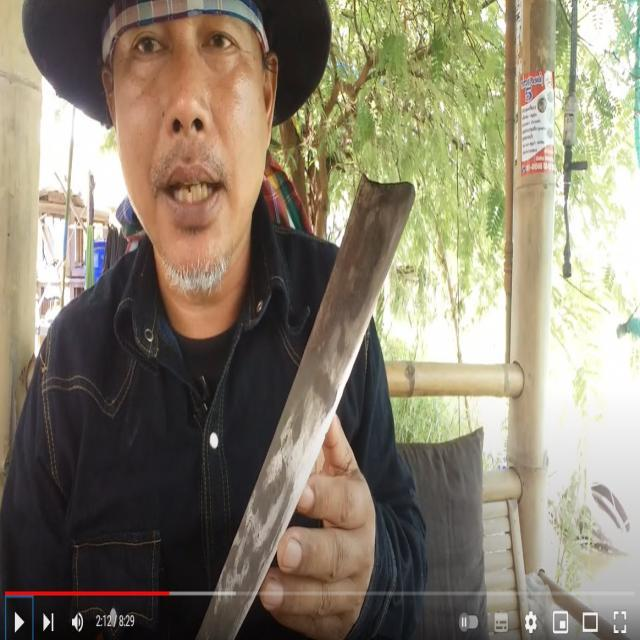eto: (195, 182, 416, 640)
